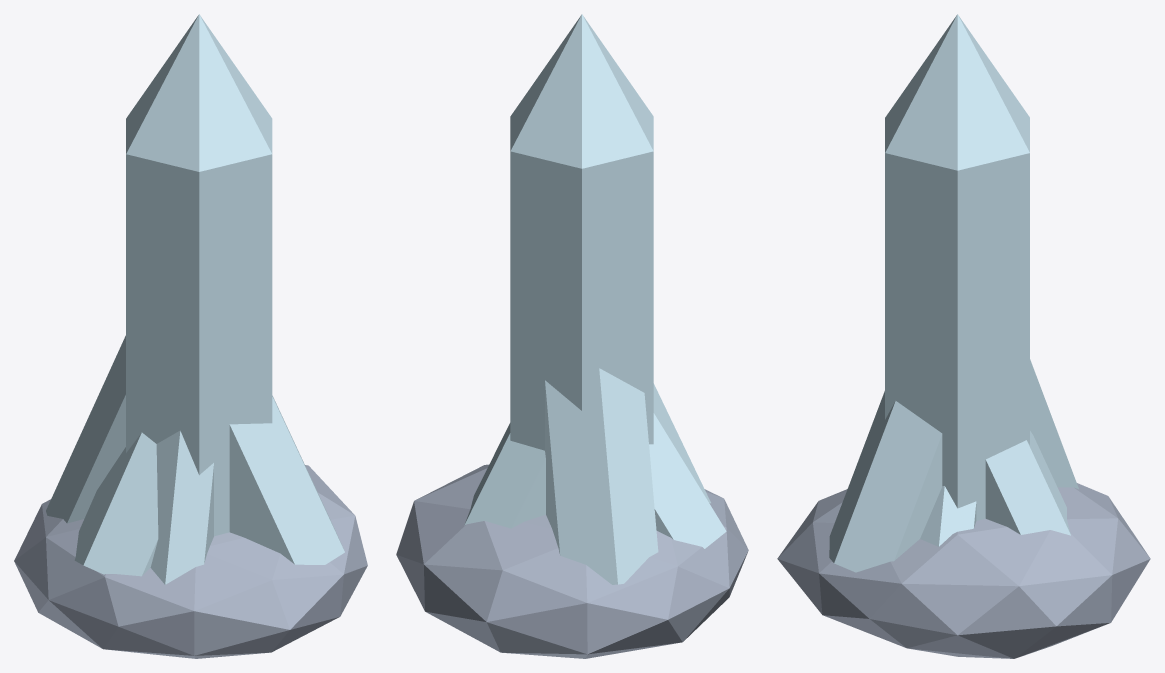
Rendered from MinecartMayhemCluster.glb.
3 views of the same model, side by side, from view 1: azimuth 30°, elevation 25°; view 2: azimuth 150°, elevation 25°; view 3: azimuth 270°, elevation 25° (orthographic). The views are drawn at different scales.
Visible parts, largest first — view 1: Crystal, Rock; view 2: Crystal, Rock; view 3: Crystal, Rock.
Boxes of the visible parts, box(x1,y1,x2,y2) form: Crystal: box(46, 14, 344, 584); Rock: box(14, 465, 367, 658); Crystal: box(464, 14, 726, 584); Rock: box(396, 464, 748, 658); Crystal: box(829, 14, 1078, 572); Rock: box(777, 483, 1150, 658).
Bounding box in the file's own units: 5.07 × 9.73 × 5.36.
